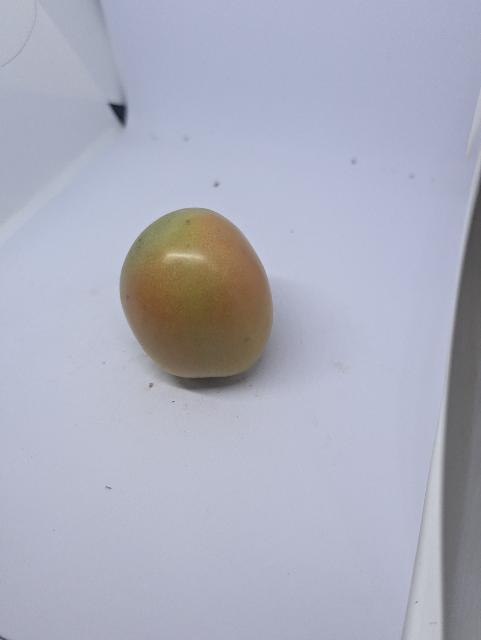turning: (116, 205, 278, 385)
